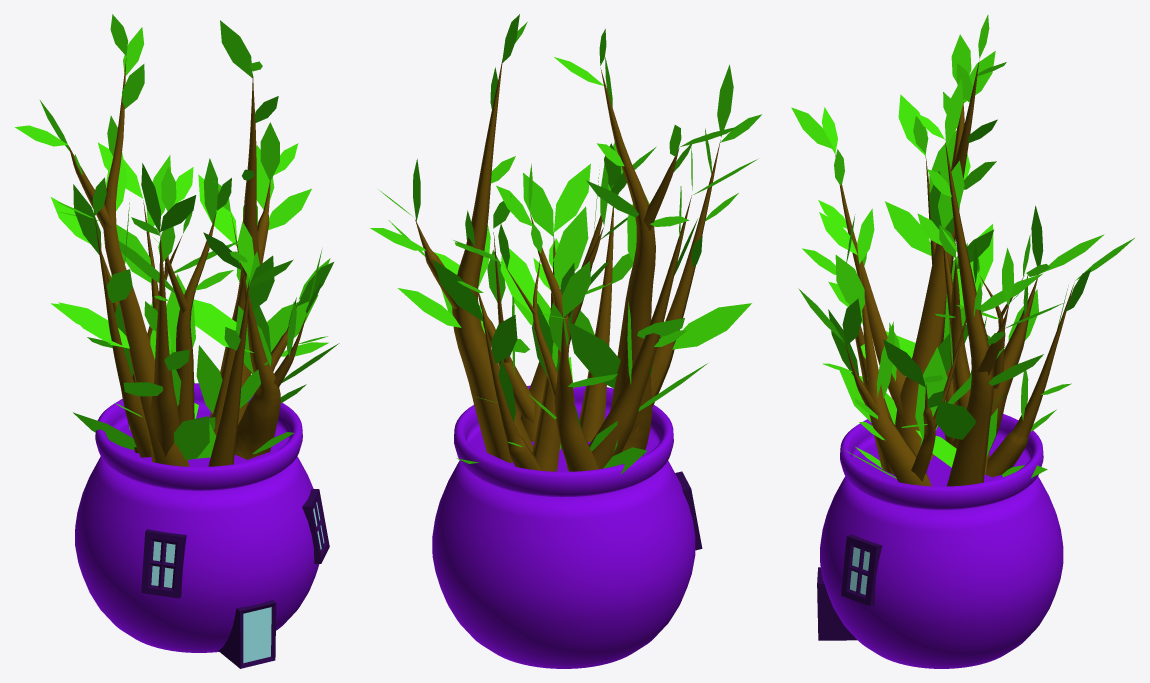
Rendered from Color Casa uva.fbx.
3 renders of one model, left to right at view 1: azimuth 30°, elevation 25°; view 2: azimuth 150°, elevation 25°; view 3: azimuth 270°, elevation 25°, orthographic. The views are drawn at different scales.
Parts seen in each view (by area): view 1: Cylinder, leaves, tree, Cube.002, Cube.001; view 2: Cylinder, tree, leaves; view 3: Cylinder, leaves, tree, Cube.002, Cube.001.
Boxes of the visible parts, bbox=[...] form: Cylinder: bbox=[75, 383, 319, 652]; leaves: bbox=[14, 14, 339, 460]; tree: bbox=[68, 58, 306, 466]; Cube.002: bbox=[141, 489, 329, 598]; Cube.001: bbox=[218, 600, 276, 668]; Cylinder: bbox=[432, 385, 695, 668]; tree: bbox=[415, 59, 720, 471]; leaves: bbox=[370, 14, 761, 474]; Cylinder: bbox=[820, 414, 1063, 668]; leaves: bbox=[791, 15, 1134, 478]; tree: bbox=[834, 60, 1074, 486]; Cube.002: bbox=[841, 534, 882, 606]; Cube.001: bbox=[817, 567, 857, 640].
Size of the model in its own units: 311 by 574 by 300.
